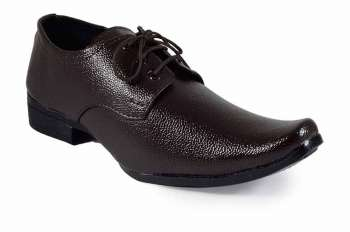Footwear: (22, 10, 327, 189)
